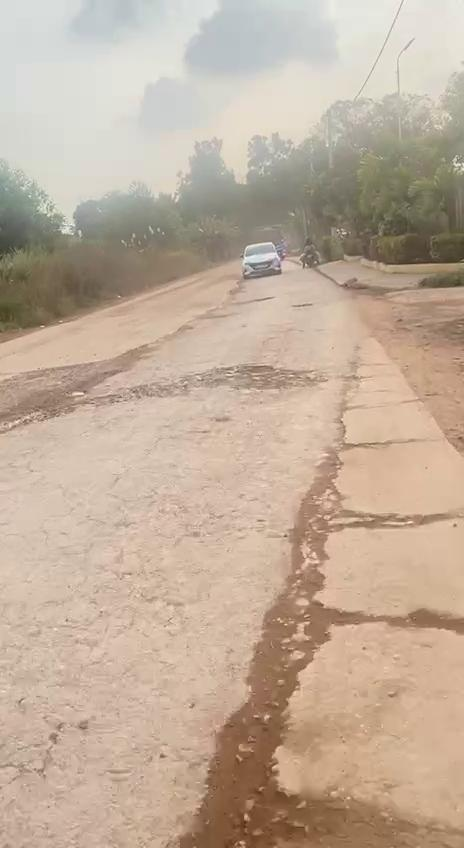pothole: (179, 694, 341, 848), (255, 542, 340, 688)
